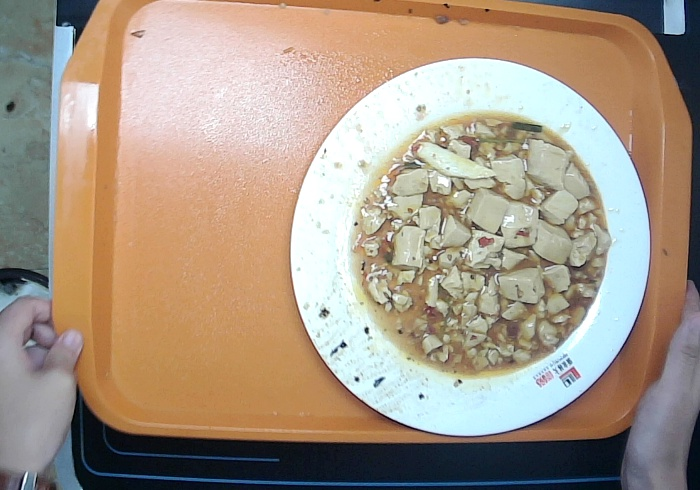ZNLD-Da_Yuan_Pan: (285, 61, 655, 435)
